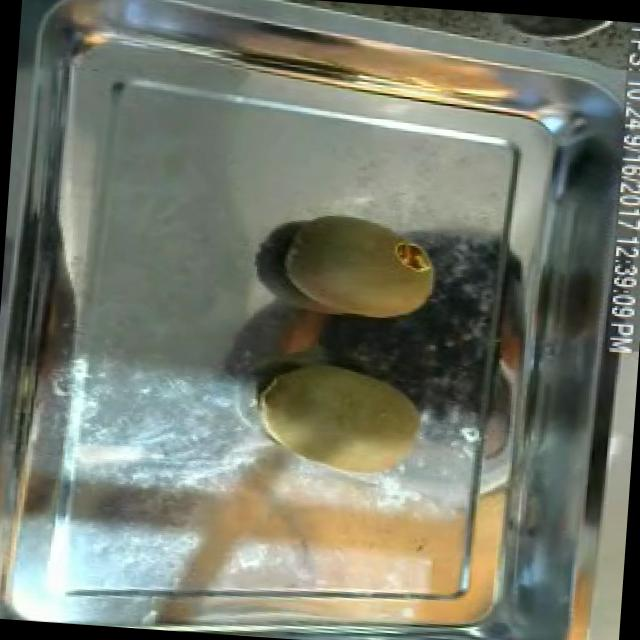Fruit: (244, 350, 433, 488), (266, 200, 452, 330)
